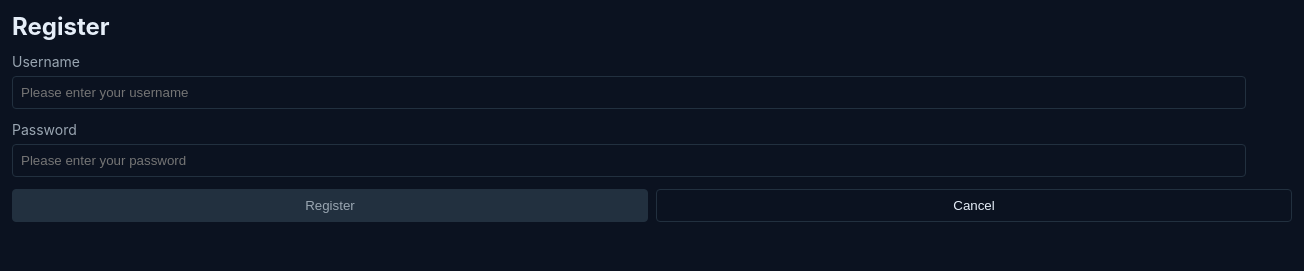
Test: Register › shows Registration failed when no details are provided
Type "alice" into the field labelled "Username" at (629, 92), box [12,76,1246,109]
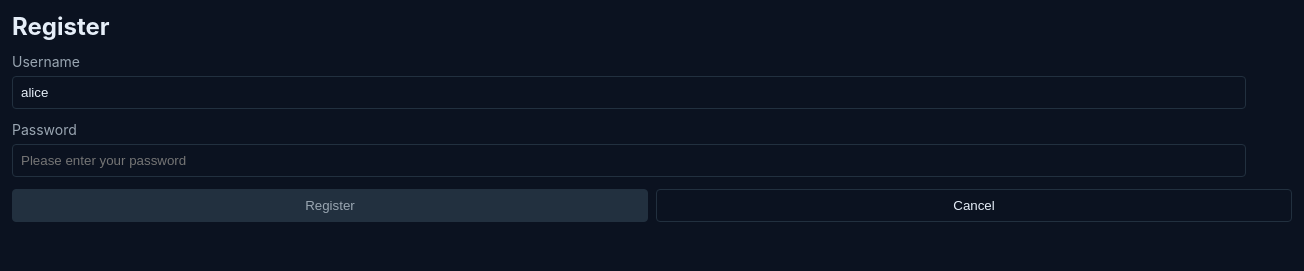
Type "secret" into the password field labelled "Password" at (629, 160), box [12,144,1246,177]
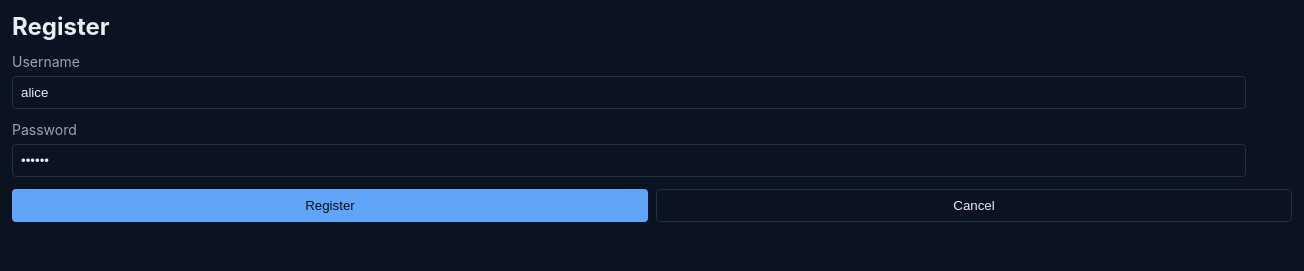
Click the button "Register" at (330, 206), box [12,189,648,222]
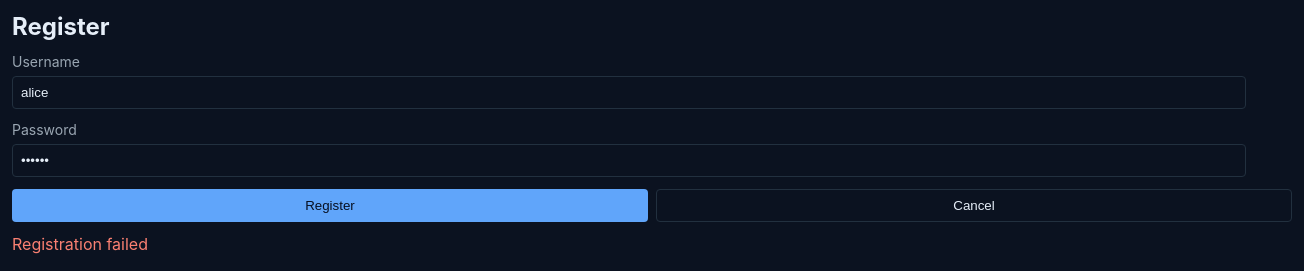
Check: the text "Registration failed" is shown, box [12,234,148,254]
